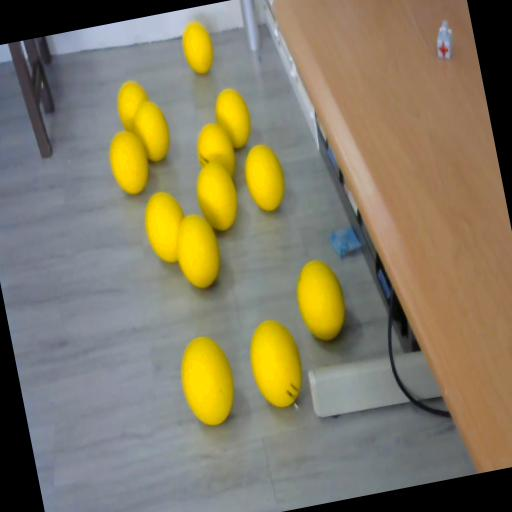FUEL: (172, 330, 242, 430), (242, 314, 310, 412), (290, 256, 350, 344), (169, 208, 227, 294), (191, 158, 244, 234), (240, 140, 290, 214), (104, 127, 153, 197), (128, 95, 176, 165), (212, 86, 256, 152), (178, 18, 218, 76)
